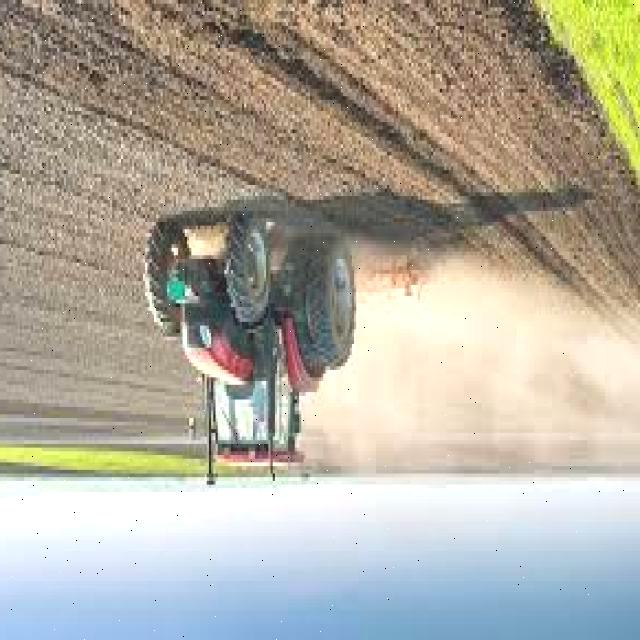Tratores - v5 YOLO V8L 2024-11-13: (116, 183, 370, 508)
